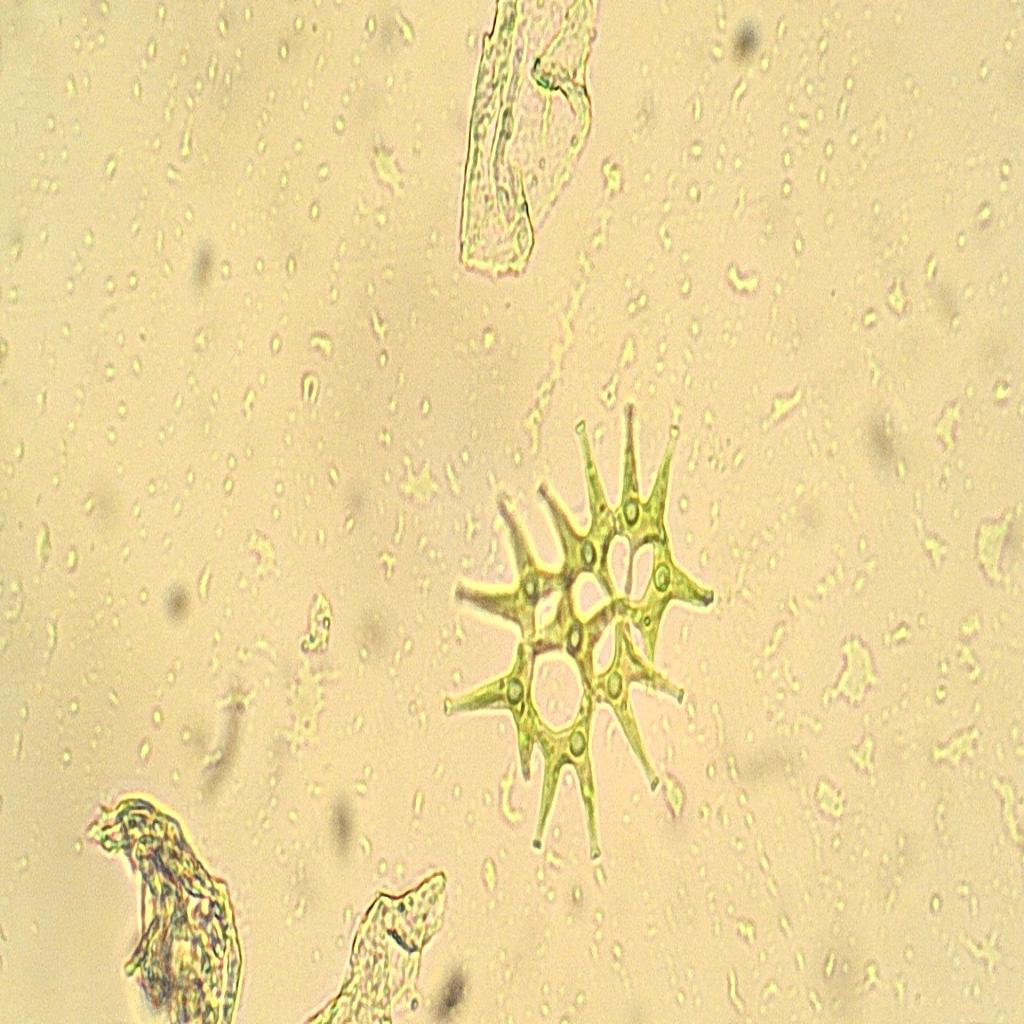Pediastrum_CFI: (430, 362, 747, 882)
